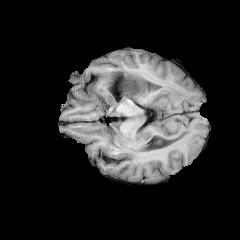glioma: (102, 68, 149, 103)
